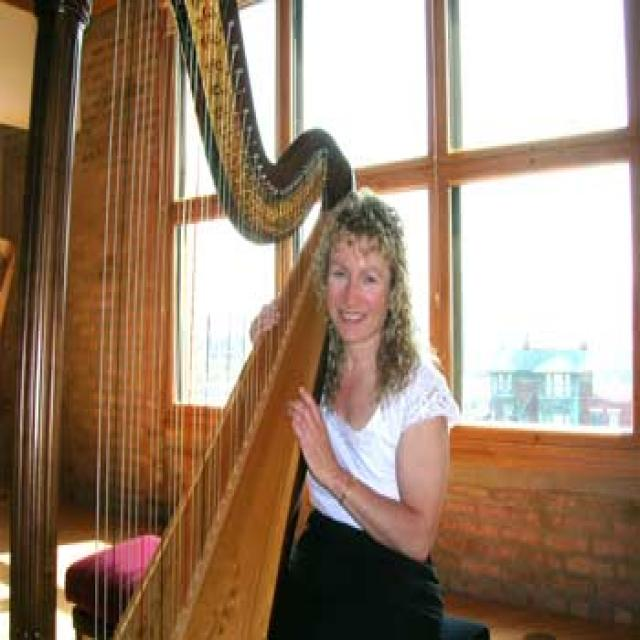harp: (25, 0, 357, 640)
